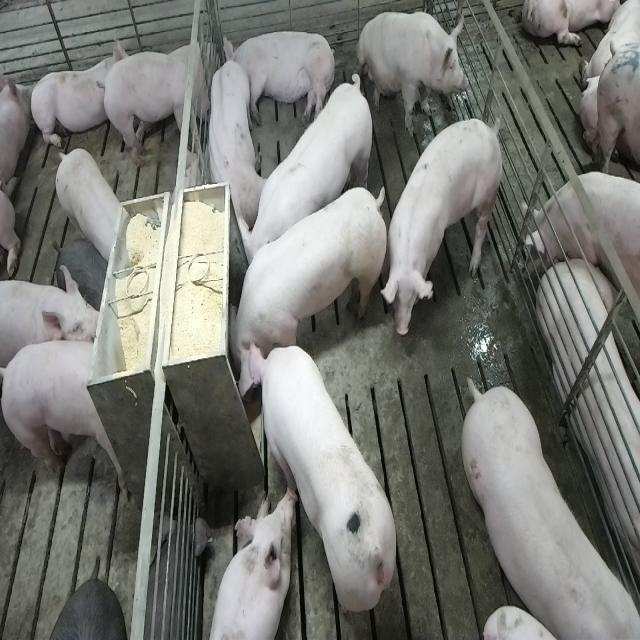Feeding: (238, 338, 398, 620), (220, 177, 383, 380)
Lateral_lying: (540, 254, 640, 600), (222, 28, 338, 128)
Sitting: (355, 8, 469, 136)
Standing: (457, 374, 636, 636), (242, 70, 378, 282), (384, 114, 506, 338), (2, 338, 126, 496), (99, 38, 219, 176), (522, 168, 640, 300), (3, 267, 107, 381), (53, 148, 127, 262)
Sternal_lying: (206, 489, 294, 640), (28, 34, 118, 152), (204, 55, 264, 229)
